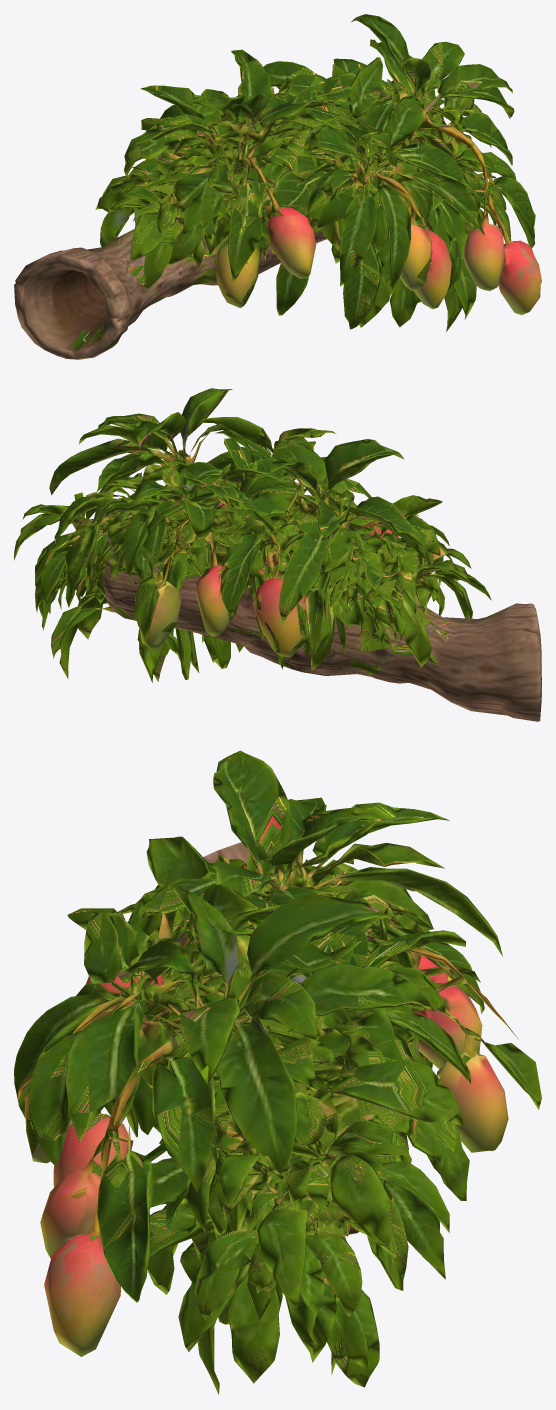
The model's file is branch_mango.glb.
The picture shows the model from 3 angles, top to bottom: view 1: azimuth 30°, elevation 25°; view 2: azimuth 150°, elevation 25°; view 3: azimuth 270°, elevation 25°; orthographic projection. The views are drawn at different scales.
Size of the model in its own units: 1.9 by 1.07 by 1.09.
1 material, 1 textured.
